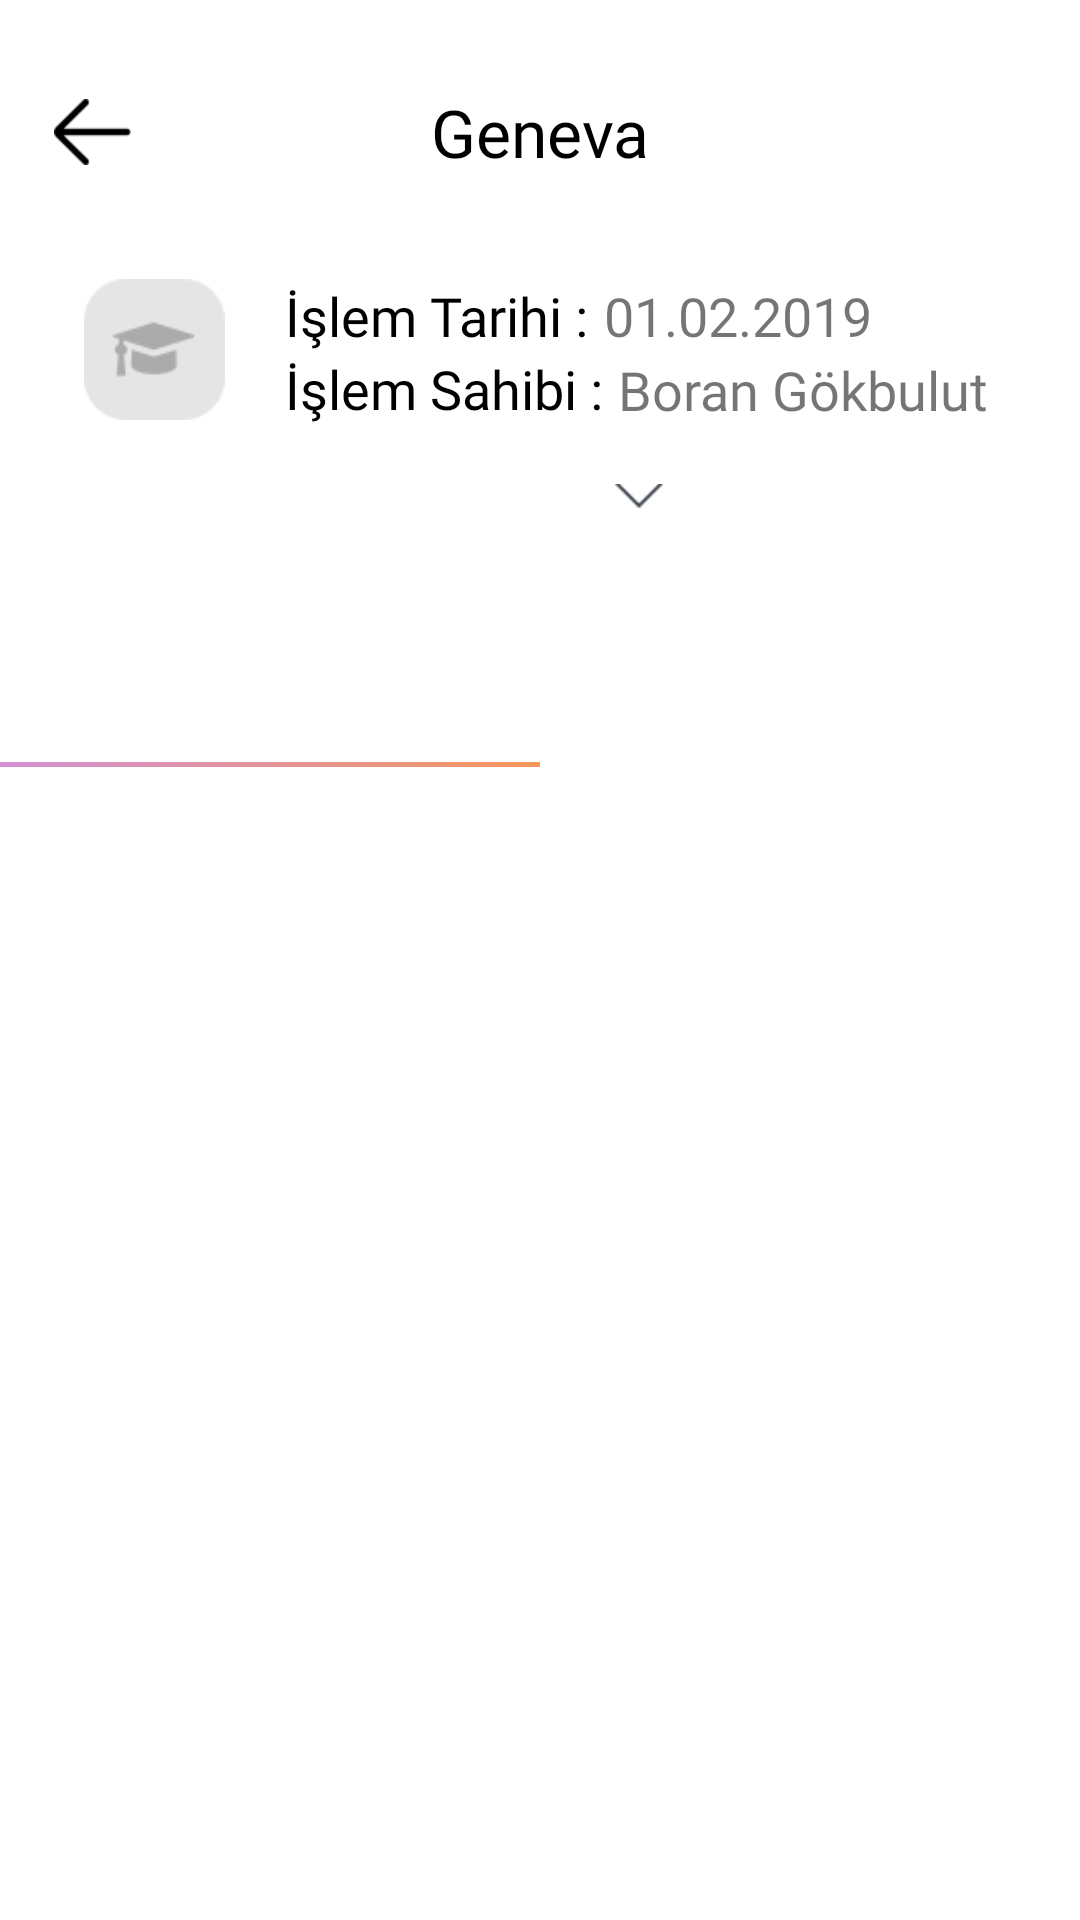

Point at icon controls on the screen. Image size 1080px×1920px, points as (x=x, y=y).
leftarrow: (x=92, y=132)
